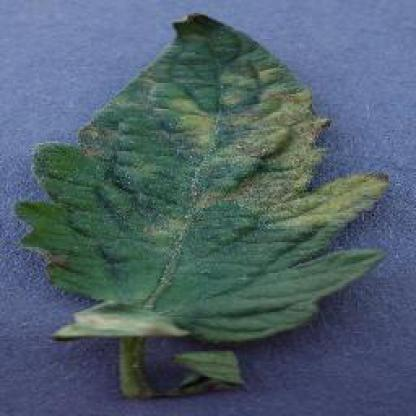bad leaf: (26, 8, 365, 414)
